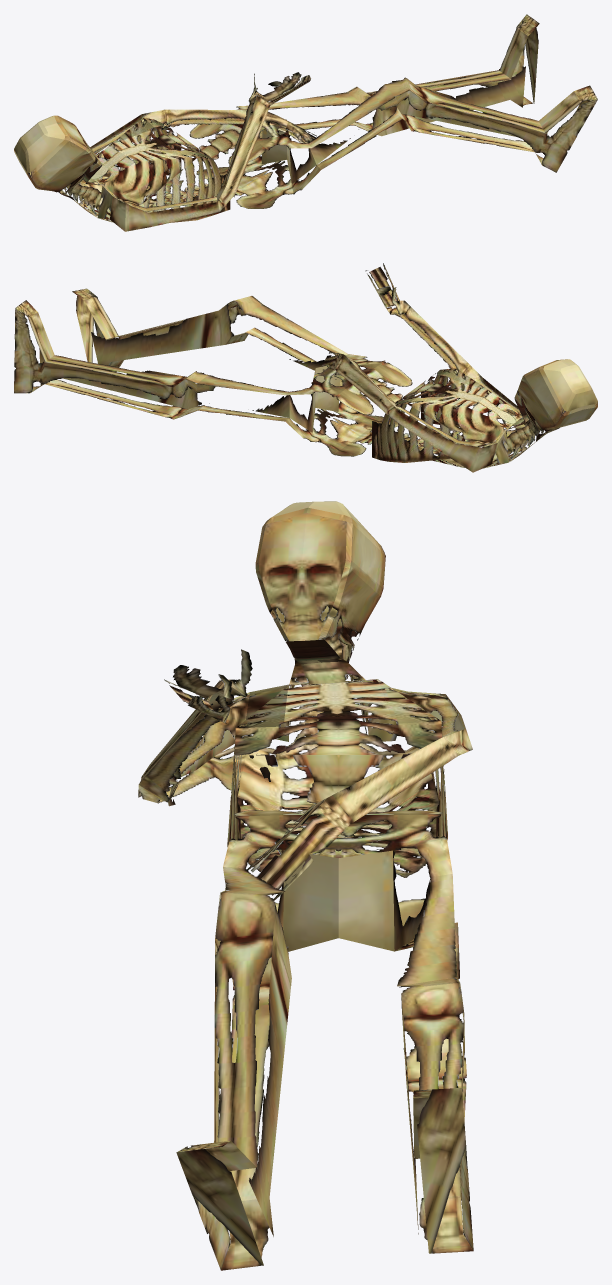
Rendered from caveira_deitada.fbx.
3 renders of one model, top to bottom at view 1: azimuth 30°, elevation 25°; view 2: azimuth 150°, elevation 25°; view 3: azimuth 270°, elevation 25°, orthographic. The views are drawn at different scales.
Visible parts, largest first — view 1: skeleton; view 2: skeleton; view 3: skeleton.
Boxes of the visible parts, x1=… form: skeleton: x1=14, y1=14, x2=597, y2=231; skeleton: x1=14, y1=263, x2=597, y2=472; skeleton: x1=138, y1=501, x2=473, y2=1270.
Size of the model in its own units: 263 by 80.64 by 70.39.
